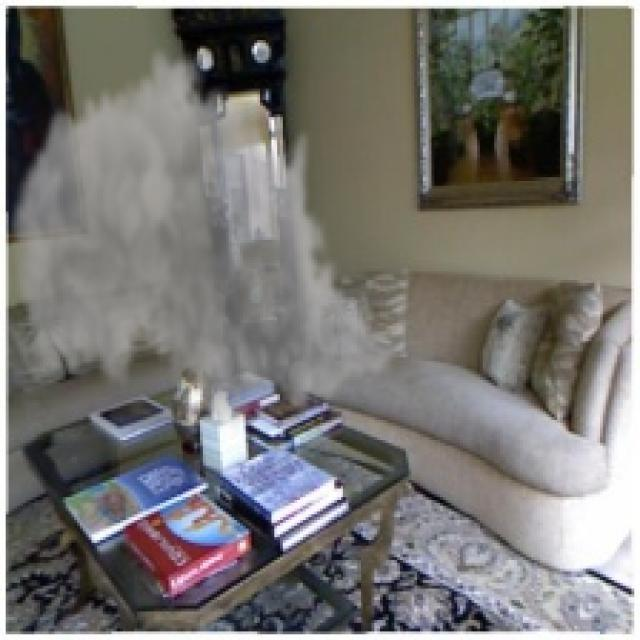Smoke: (6, 40, 397, 440)
